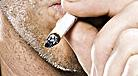Cigarette: (45, 14, 75, 48)
